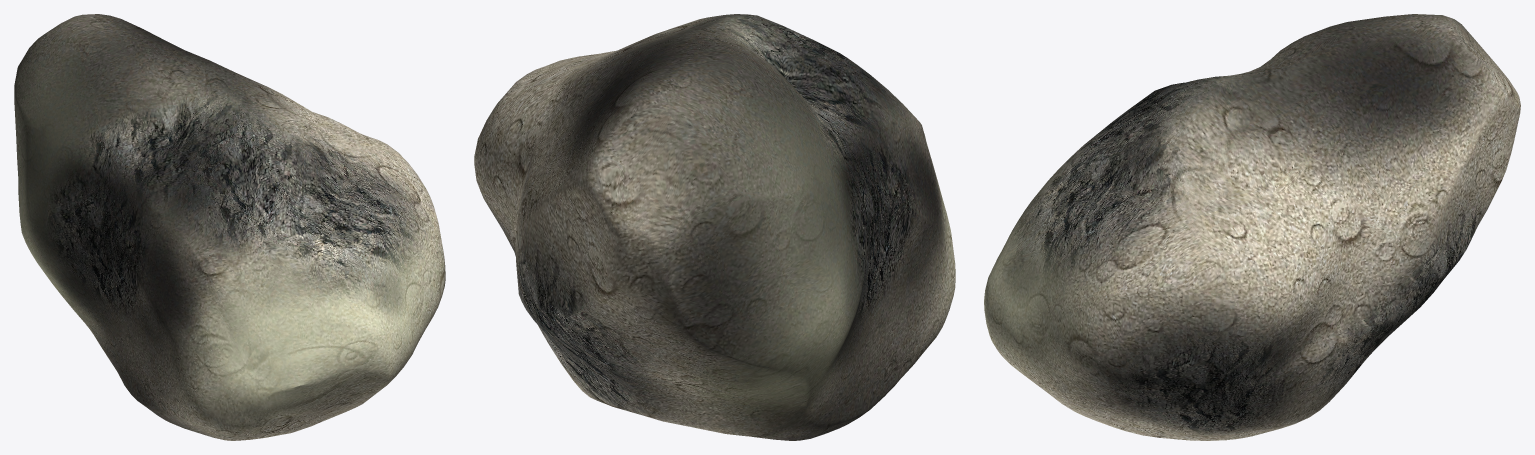
Rendered from meteroit.obj.
3 renders of one model, left to right at view 1: azimuth 30°, elevation 25°; view 2: azimuth 150°, elevation 25°; view 3: azimuth 270°, elevation 25°, orthographic. The views are drawn at different scales.
Size of the model in its own units: 1.84 by 1.83 by 2.39.
